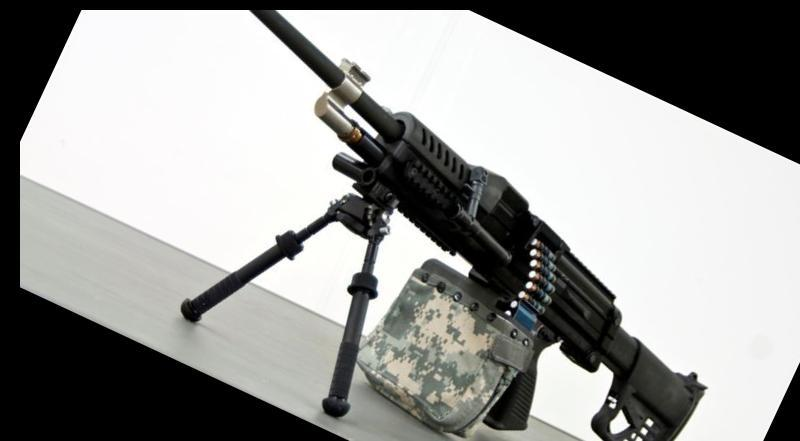larga: (179, 9, 709, 441)
